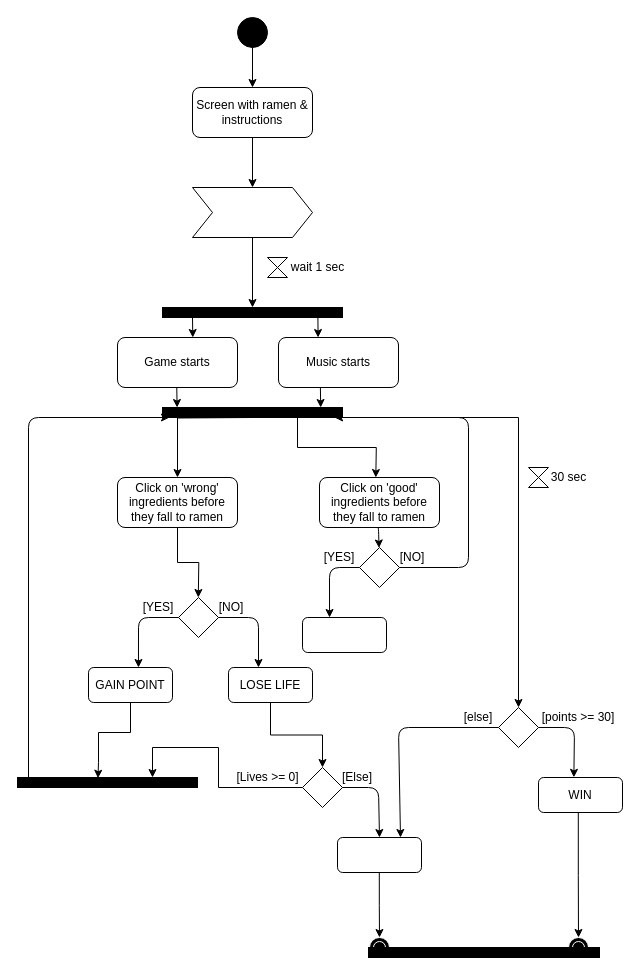
Image size: 640x975. Some labels were removed from this diagram. Here are the shapes that lost their labels. From the top down, the centre of each, then its label:
At pixel 252 212: "Click 'START".
At pixel 344 634: "LOSE POINT".
At pixel 379 854: "GAME OVER".
